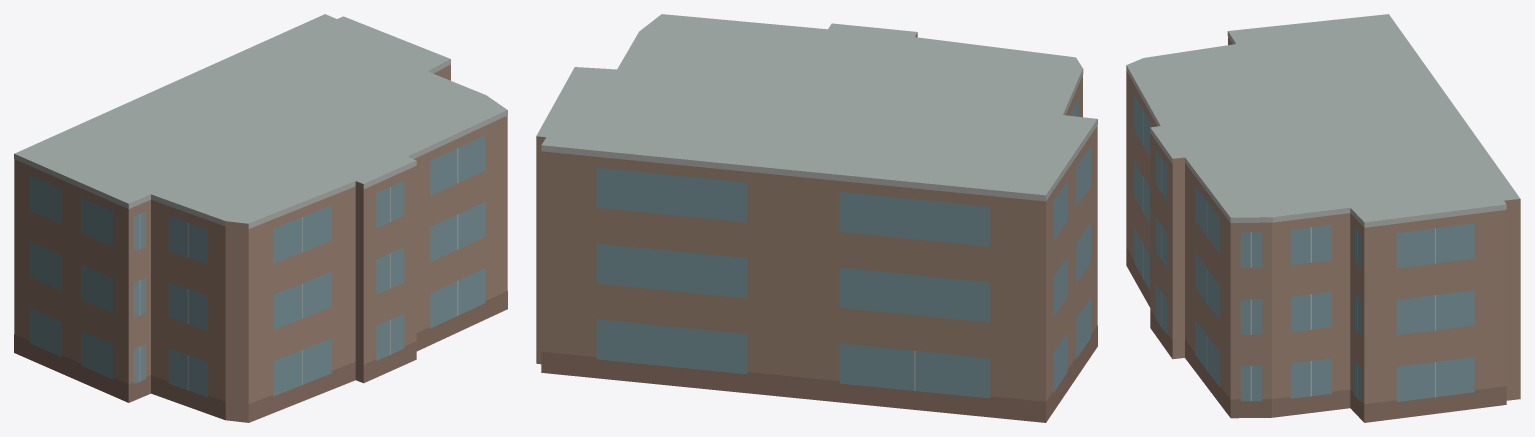
File: survey-upis-32809308.glb
3 renders of one model, left to right at view 1: azimuth 30°, elevation 25°; view 2: azimuth 150°, elevation 25°; view 3: azimuth 270°, elevation 25°, orthographic. The views are drawn at different scales.
Parts seen in each view (by area): view 1: survey-upis-32809308.tmp; view 2: survey-upis-32809308.tmp; view 3: survey-upis-32809308.tmp.
Boxes of the visible parts, x1,y1,x2,y2 form: survey-upis-32809308.tmp: (14, 14, 507, 422); survey-upis-32809308.tmp: (536, 14, 1097, 422); survey-upis-32809308.tmp: (1126, 14, 1520, 422).
Bounding box in the file's own units: 20.43 × 9.15 × 16.32.
